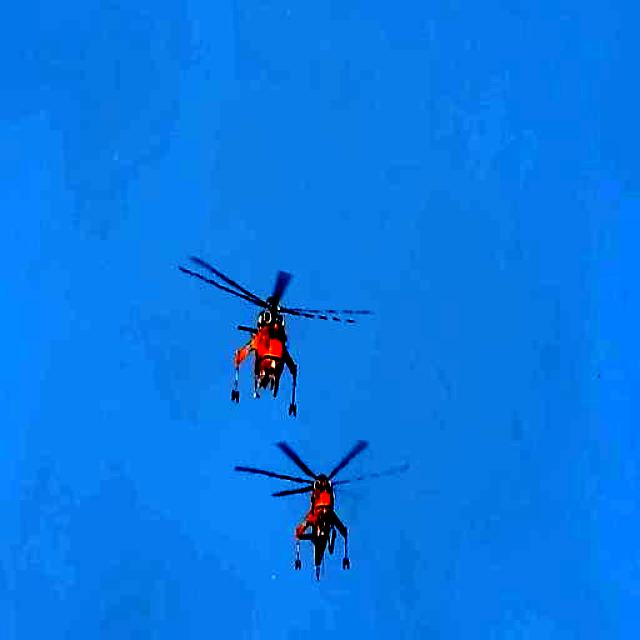drone: (180, 235, 364, 424), (238, 442, 379, 580)
